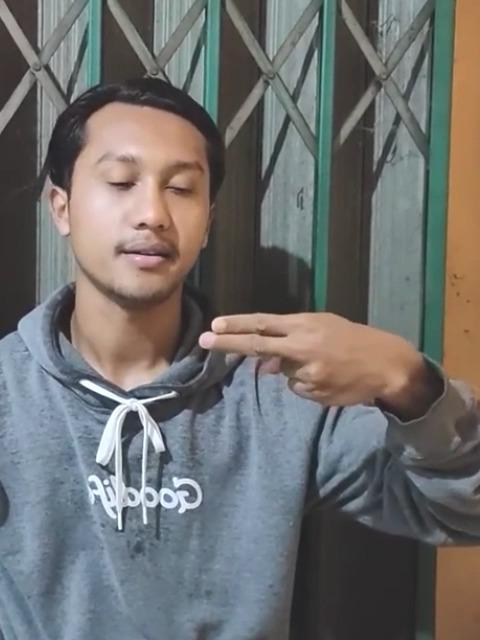H: (197, 308, 420, 416)
